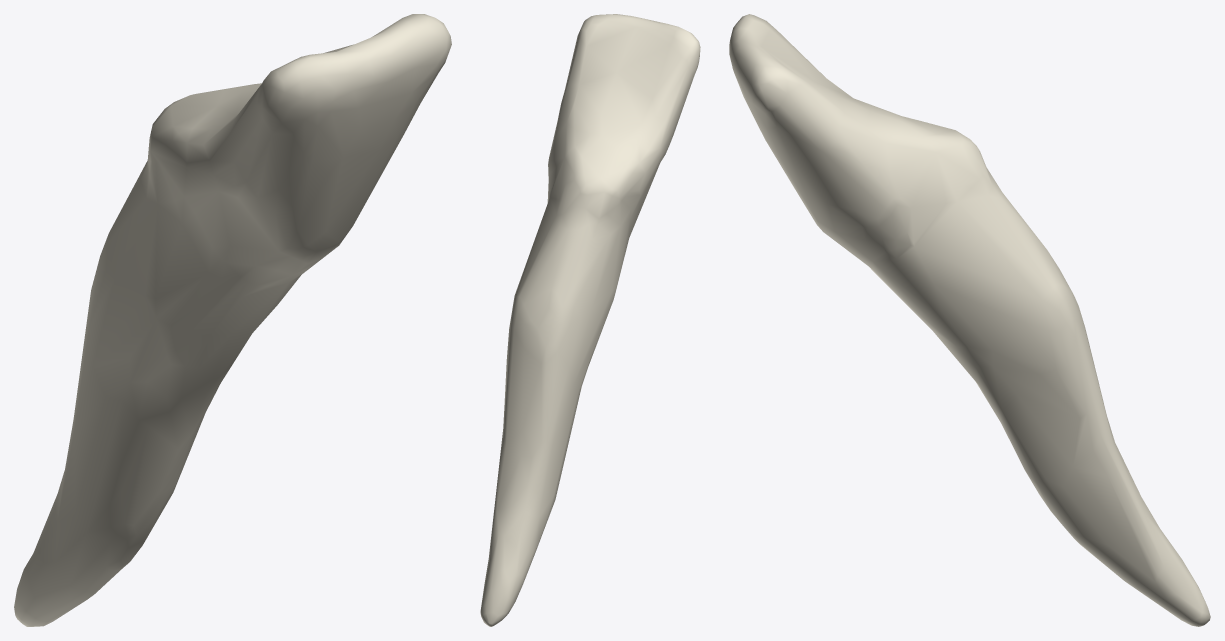
The picture shows the model from 3 angles, left to right: view 1: azimuth 30°, elevation 25°; view 2: azimuth 150°, elevation 25°; view 3: azimuth 270°, elevation 25°; orthographic projection. The views are drawn at different scales.
Parts seen in each view (by area): view 1: ZA_4946a7e15b879449; view 2: ZA_4946a7e15b879449; view 3: ZA_4946a7e15b879449.
Boxes of the visible parts, <box> form: ZA_4946a7e15b879449: <box>14,14,451,626</box>; ZA_4946a7e15b879449: <box>480,14,700,626</box>; ZA_4946a7e15b879449: <box>729,14,1210,626</box>.
Size of the model in its own units: 0.00612 by 0.0247 by 0.0179.
